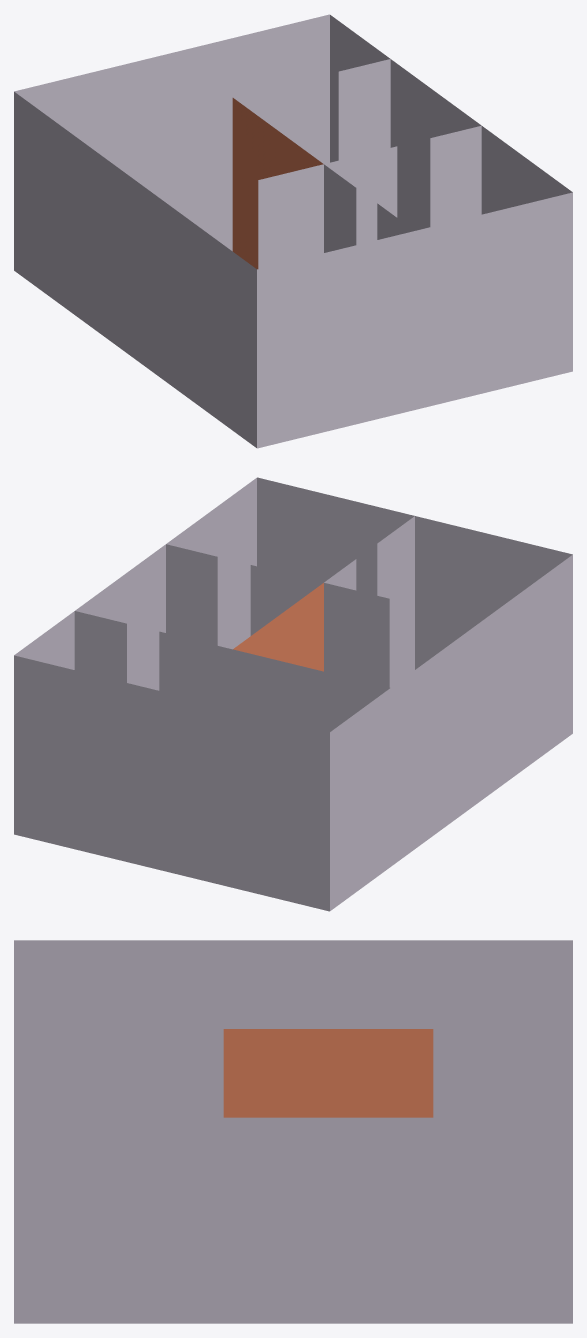
The model's file is Compartment.glb.
3 views of the same model, one above another, from view 1: azimuth 30°, elevation 25°; view 2: azimuth 150°, elevation 25°; view 3: azimuth 270°, elevation 25° (orthographic). The views are drawn at different scales.
Visible parts, largest first — view 1: Compartment; view 2: Compartment; view 3: Compartment.
Part boxes in pixels (x1=…): Compartment: x1=14, y1=14, x2=572, y2=448; Compartment: x1=14, y1=477, x2=572, y2=911; Compartment: x1=14, y1=940, x2=572, y2=1323.
Bounding box in the file's own units: 4.5 × 2.44 × 6.
